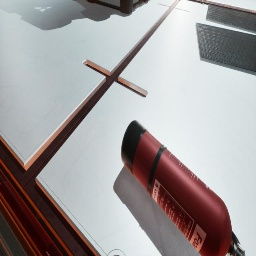FireExtinguisher ]: (121, 120, 245, 256), (238, 243, 245, 251)
